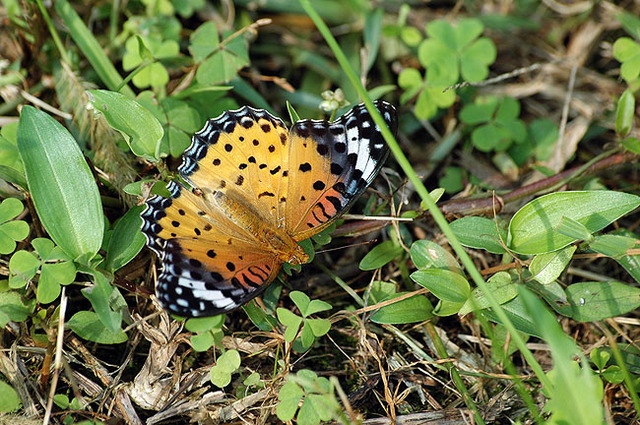Argyreus hyperbius: (135, 87, 403, 325)
butterfly: (137, 89, 405, 327)
